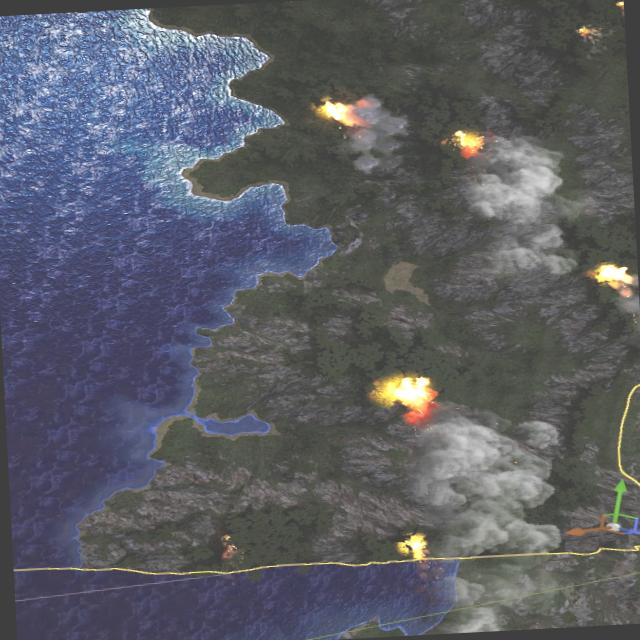fire: (382, 374, 437, 411), (314, 97, 364, 129), (449, 128, 484, 158), (594, 263, 632, 289), (402, 534, 426, 558)
smoke: (409, 402, 568, 566), (458, 130, 576, 280), (338, 101, 408, 176)
